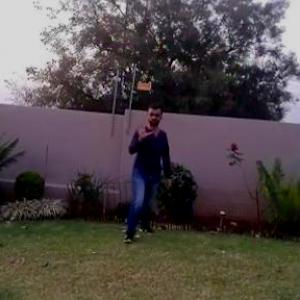follow_hand: (132, 116, 153, 142)
